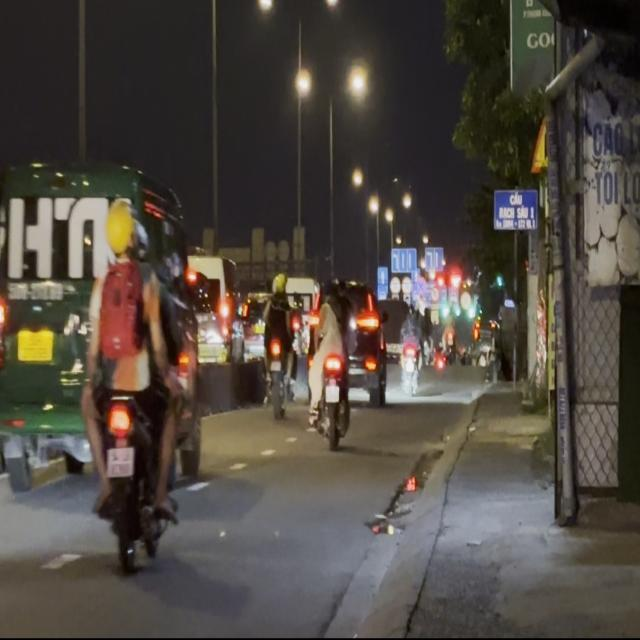helmet: (103, 196, 139, 262)
licenseplate: (78, 194, 182, 571)
nohelmet: (106, 446, 133, 475)
